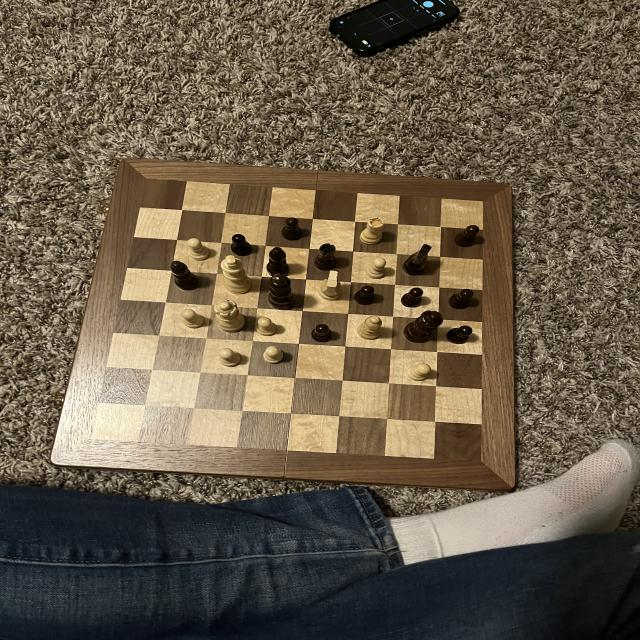bishop: (169, 258, 202, 292), (264, 244, 295, 279)
black-bishop: (264, 271, 298, 312)
black-king: (399, 242, 435, 277)
black-knight: (448, 221, 483, 252), (226, 232, 256, 258), (398, 286, 428, 310), (444, 323, 475, 345), (280, 215, 304, 243), (448, 286, 476, 310), (306, 322, 335, 344), (353, 284, 379, 306)
black-pawn: (400, 308, 444, 343)
black-queen: (310, 242, 342, 270)
black-rook: (354, 314, 385, 342)
white-bishop: (217, 253, 256, 299)
white-king: (318, 268, 345, 303)
white-knight: (184, 236, 212, 264), (178, 307, 207, 330), (362, 256, 389, 280), (260, 344, 288, 366), (253, 315, 280, 337), (216, 346, 243, 368), (404, 362, 432, 382)
white-pawn: (211, 296, 248, 335)
white-queen: (356, 215, 388, 246)
